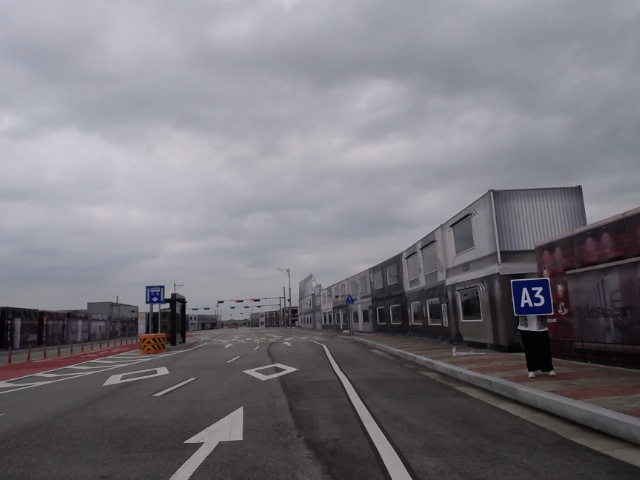delivery_a3: (511, 278, 553, 316)
